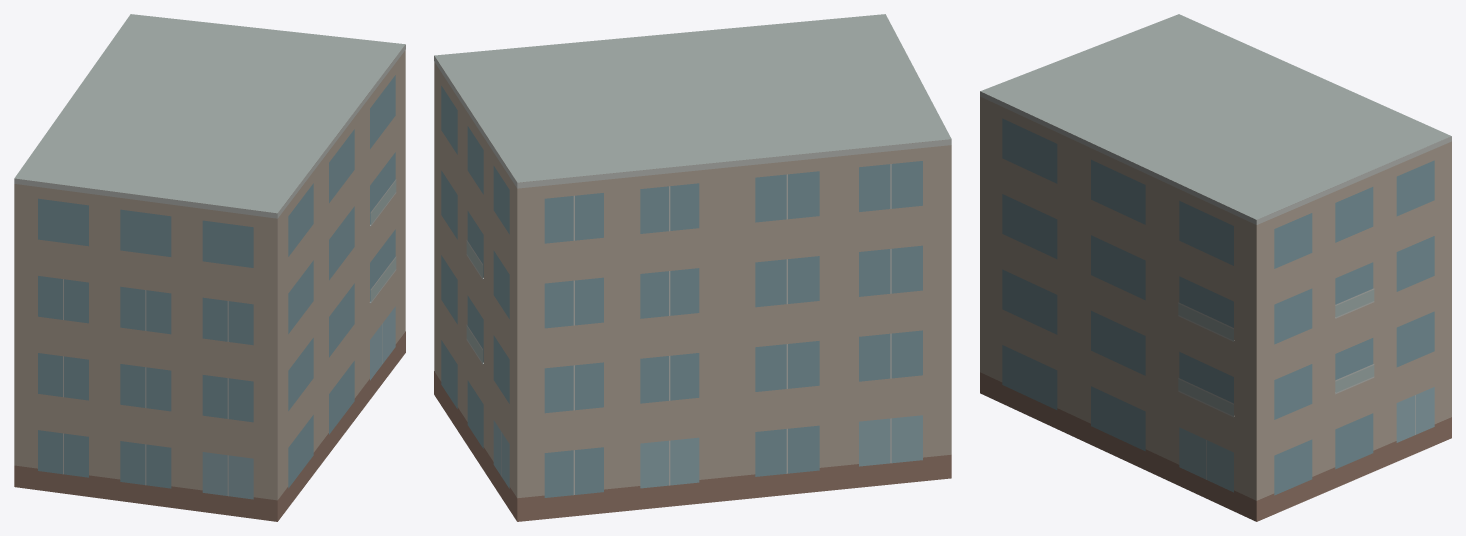
The model's file is survey-upis-32947663.glb.
The picture shows the model from 3 angles, left to right: view 1: azimuth 30°, elevation 25°; view 2: azimuth 150°, elevation 25°; view 3: azimuth 270°, elevation 25°; orthographic projection. The views are drawn at different scales.
Parts seen in each view (by area): view 1: survey-upis-32947663.tmp; view 2: survey-upis-32947663.tmp; view 3: survey-upis-32947663.tmp.
Boxes of the visible parts, x1=… form: survey-upis-32947663.tmp: x1=14, y1=14, x2=405, y2=521; survey-upis-32947663.tmp: x1=434, y1=14, x2=951, y2=521; survey-upis-32947663.tmp: x1=980, y1=14, x2=1451, y2=521.
Bounding box in the file's own units: 20.48 × 14 × 19.83.
